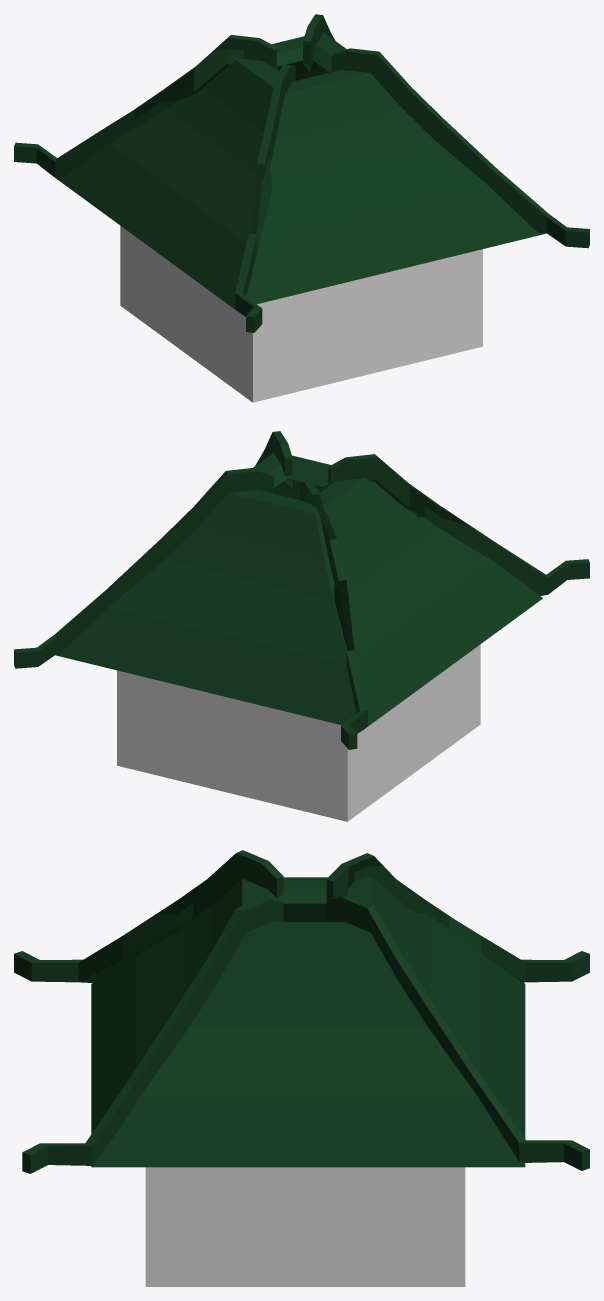
Rendered from OniHouseGreen.fbx.
3 renders of one model, top to bottom at view 1: azimuth 30°, elevation 25°; view 2: azimuth 150°, elevation 25°; view 3: azimuth 270°, elevation 25°, orthographic. The views are drawn at different scales.
Parts seen in each view (by area): view 1: Plane, Cube, Plane.001; view 2: Plane, Cube, Plane.001; view 3: Plane, Cube, Plane.001.
Part boxes in pixels (x1,y1,x2,y2): Plane: (56, 33, 546, 309); Cube: (120, 226, 482, 402); Plane.001: (14, 14, 589, 332); Plane: (55, 453, 542, 726); Cube: (117, 644, 480, 821); Plane.001: (14, 431, 589, 749); Plane: (91, 877, 525, 1167); Cube: (145, 1167, 465, 1286); Plane.001: (14, 850, 589, 1173).
Size of the model in its own units: 251 by 194 by 299.
